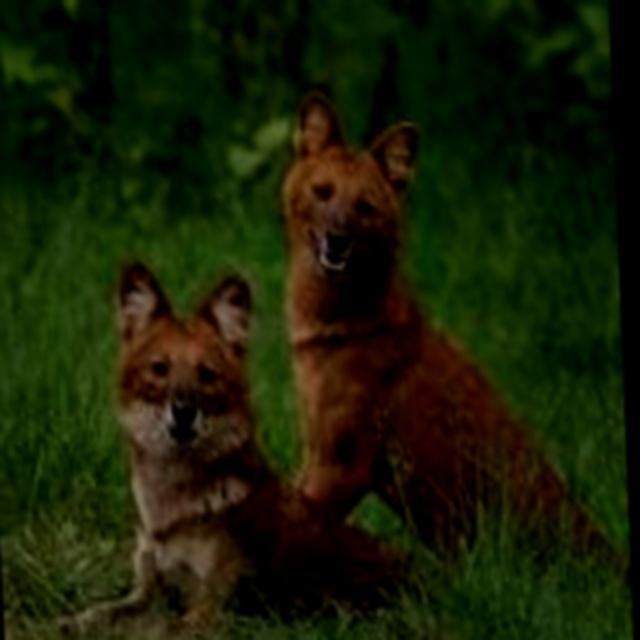dog: (261, 94, 488, 498), (73, 258, 300, 621)
